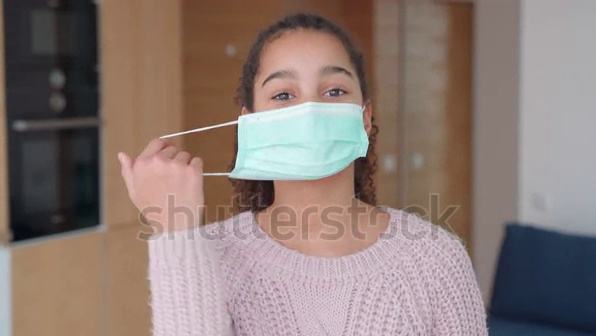Mask: (200, 105, 392, 185)
